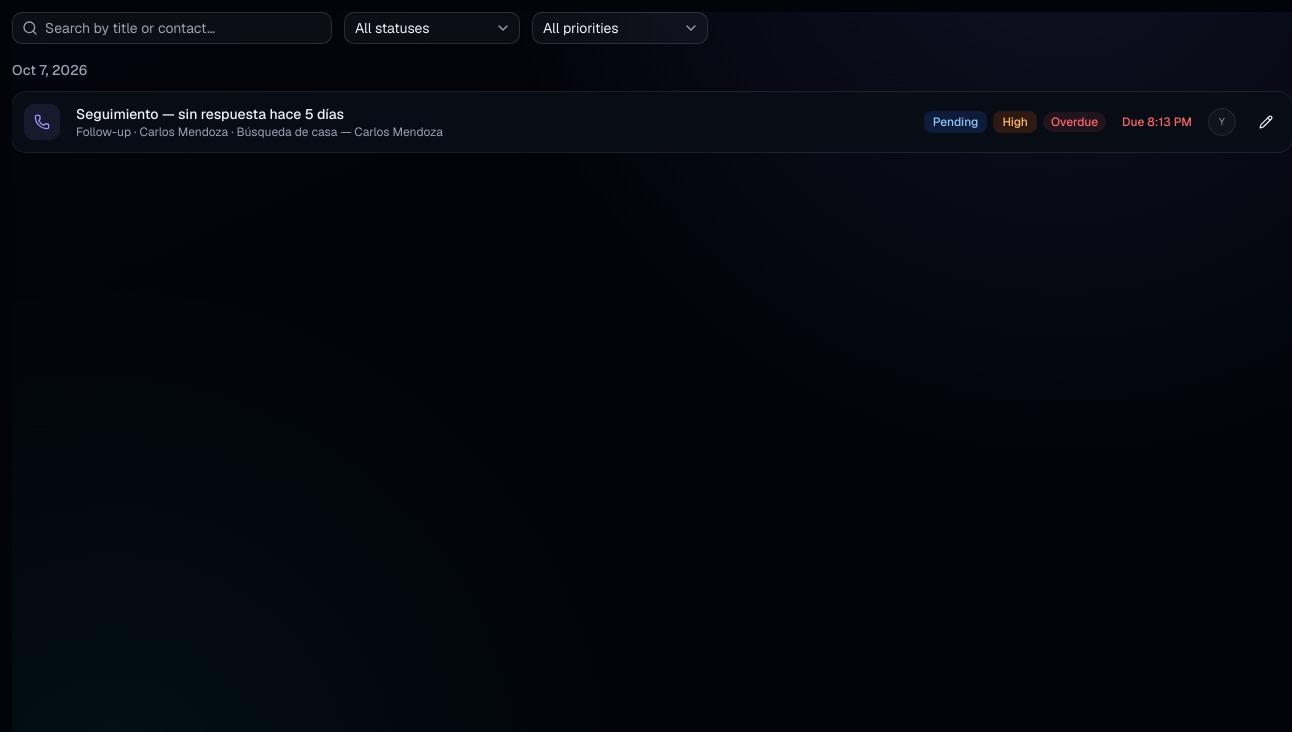
Test: TaskList › shows a genuine no-results state when filters match nothing, not an empty page
Expected: the text "Seguimiento — sin respuesta hace 5 días" is shown, [76, 105, 344, 123]
Type "nonexistent-xyz" into the field with placeholder "Search by title or contact…" at (172, 28), box [12, 12, 332, 44]
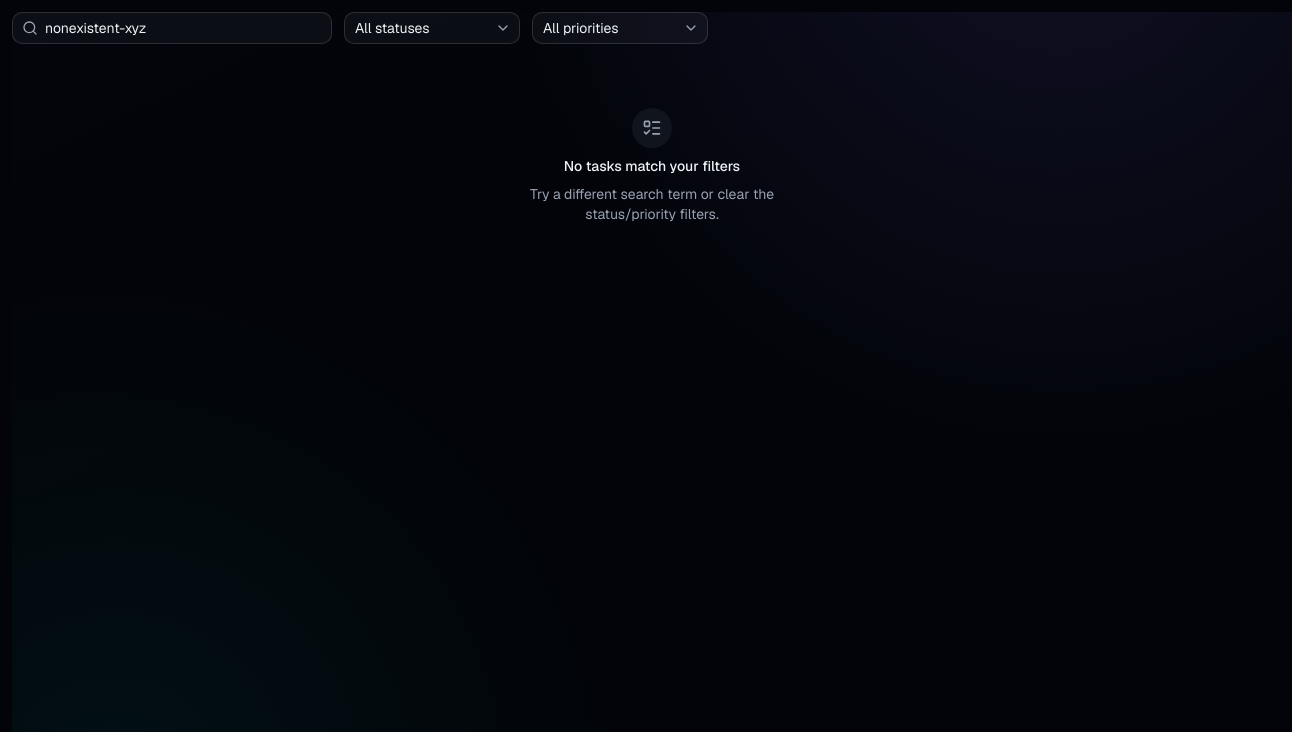
Expected: the text "No tasks match your filters" is shown, [564, 156, 740, 176]
